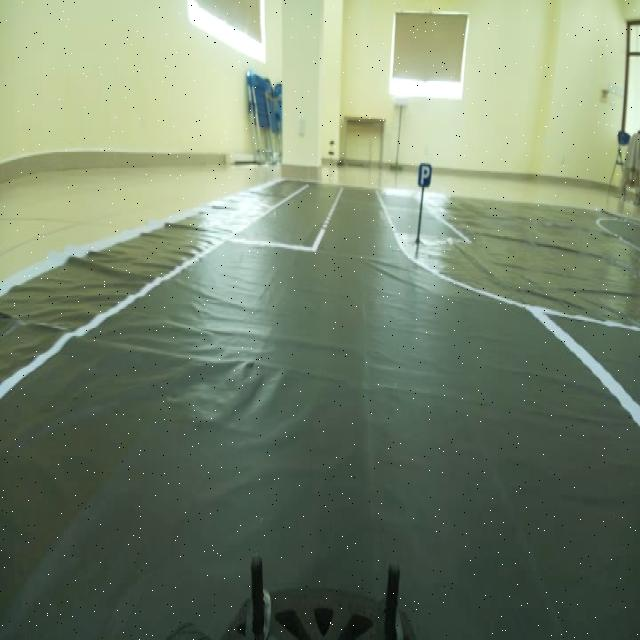parking: (412, 151, 438, 198)
